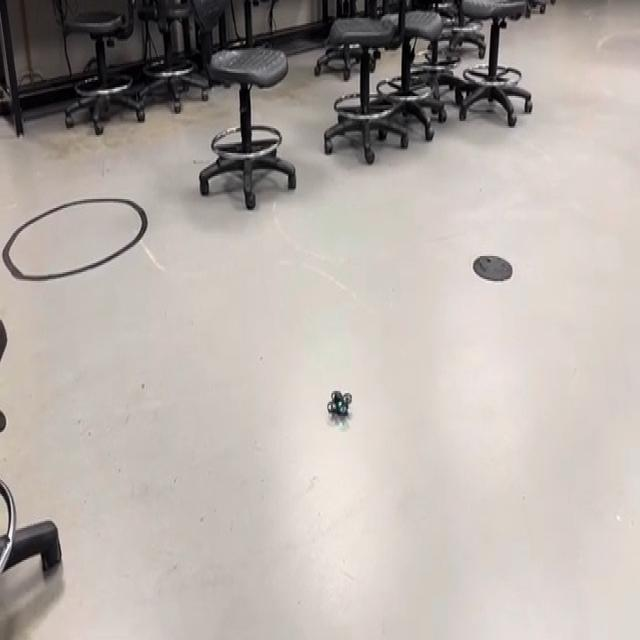drone: (319, 376, 360, 432)
